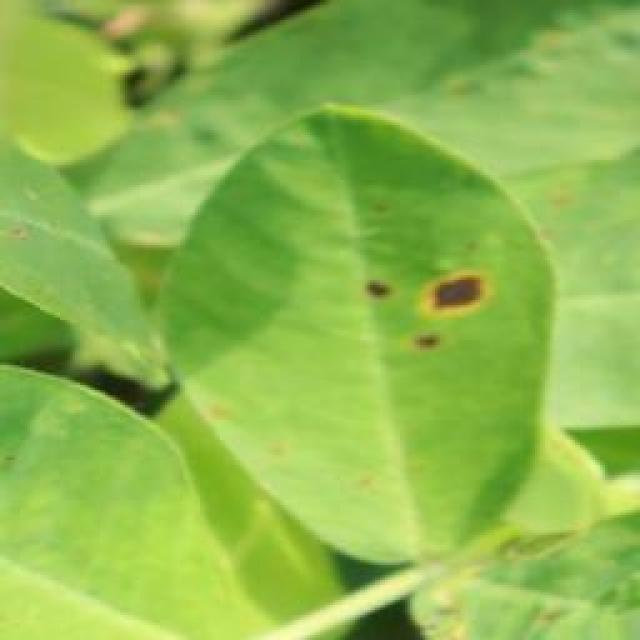Sigatoka: (354, 262, 499, 364)
